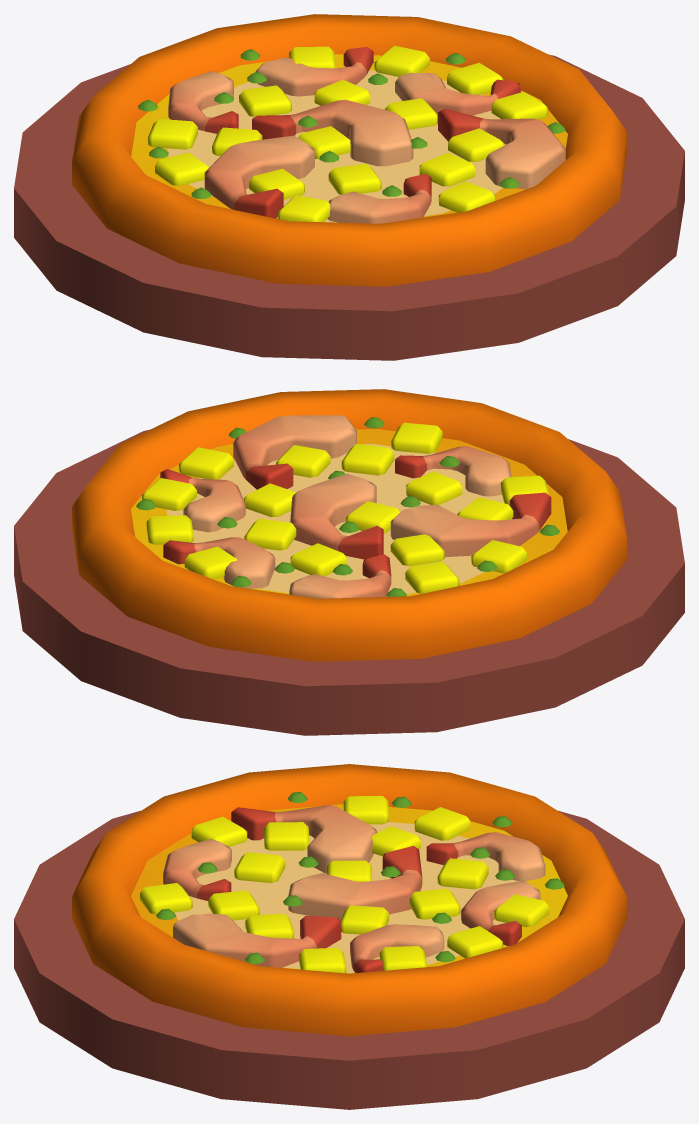
File: Pizza.fbx
The picture shows the model from 3 angles, top to bottom: view 1: azimuth 30°, elevation 25°; view 2: azimuth 150°, elevation 25°; view 3: azimuth 270°, elevation 25°; orthographic projection.
Parts seen in each view (by area): view 1: Map02_Pizza_LV5; view 2: Map02_Pizza_LV5; view 3: Map02_Pizza_LV5.
Boxes of the visible parts, x1=… form: Map02_Pizza_LV5: x1=14, y1=14, x2=684, y2=360; Map02_Pizza_LV5: x1=14, y1=389, x2=684, y2=735; Map02_Pizza_LV5: x1=14, y1=764, x2=684, y2=1109.
Size of the model in its own units: 150 by 23.11 by 150.
